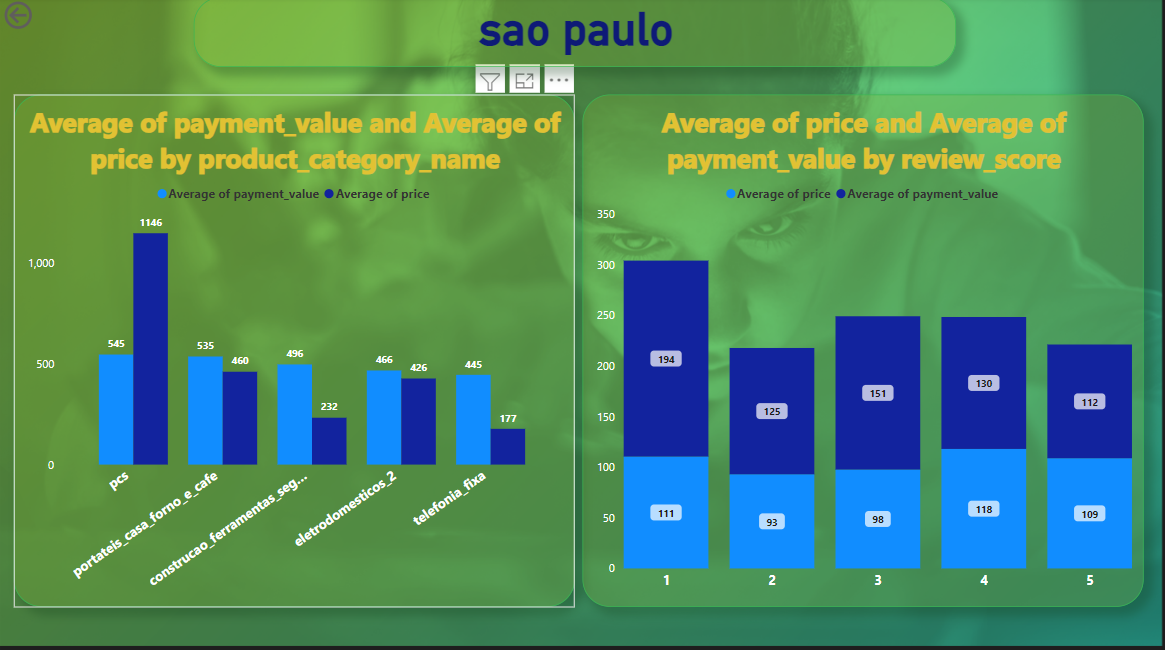

The page's visual inventory and layout, read from the dashboard file:
{"tool":"tableau","page":{"name":"Dashboard 3","canvas":[1000,1000],"units":"permille","ordinal":2},"visuals":[{"type":"blank","box":[0,0,1000,17.6]},{"type":"dashboard-object","box":[0,17.6,60.4,117.5]},{"type":"image","param":"C:/Users/afrin/Downloads/pet.jpg","box":[60.4,17.6,96,117.5]},{"type":"text","box":[156.3,17.6,783.4,117.5]},{"type":"dashboard-object","box":[939.6,17.6,60.4,117.5]},{"type":"blank","box":[0,135.1,1000,17.6]},{"type":"worksheet","title":"KPI-3.1","mark":"Bar","rows":["Calculation_450922927159508995"],"cols":["order_purchase_timestamp"],"box":[0,152.8,1000,481.8]},{"type":"worksheet","title":"KPI-3.2","mark":"Automatic","rows":["order_id (olist_order_items_dataset.csv)"],"cols":["order_purchase_timestamp"],"box":[0,634.6,1000,365.4]}]}

Visuals, with their boxes on the dashboard's canvas, which has no fixed pixel size, in thousandths of its width and height (x1, y1, x2, y2). These are canvas units, not pixel positions in the 1165x650 screenshot, which may show the page scaled, cropped or inside an application window:
blank: [0,0,1000,18]
dashboard-object: [0,18,60,135]
image: [60,18,156,135]
text: [156,18,940,135]
dashboard-object: [940,18,1000,135]
blank: [0,135,1000,153]
"KPI-3.1" worksheet (Bar marks): [0,153,1000,635]
"KPI-3.2" worksheet: [0,635,1000,1000]
